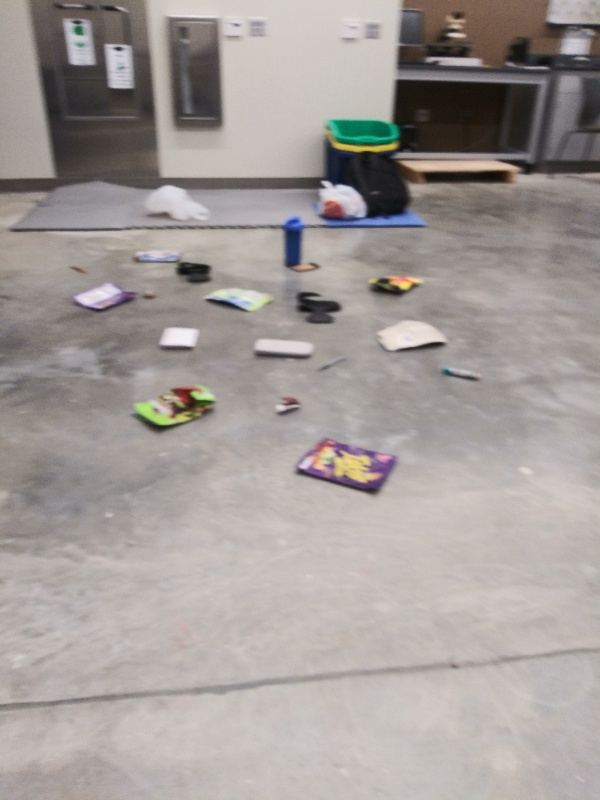bag: (292, 437, 401, 498), (129, 379, 221, 435), (70, 277, 141, 315), (372, 317, 451, 351), (200, 286, 277, 312), (366, 273, 425, 296), (129, 248, 183, 265)
